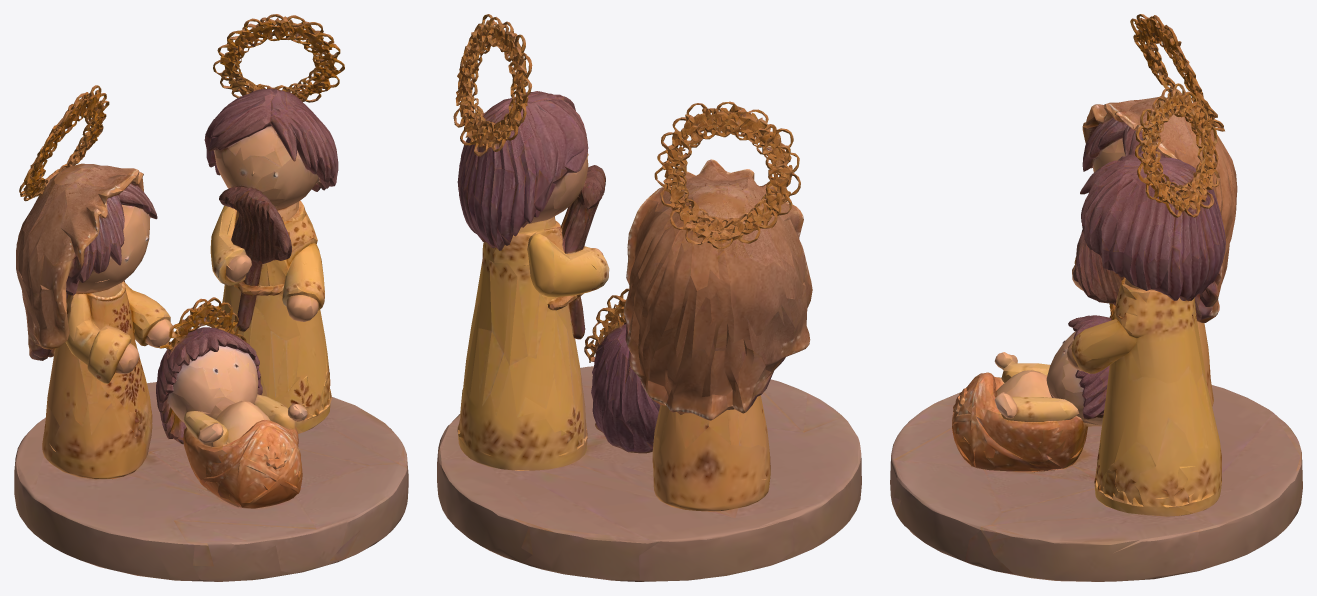
Rendered from modelo-3d.glb.
3 renders of one model, left to right at view 1: azimuth 30°, elevation 25°; view 2: azimuth 150°, elevation 25°; view 3: azimuth 270°, elevation 25°, orthographic. The views are drawn at different scales.
Parts seen in each view (by area): view 1: Mesh_0; view 2: Mesh_0; view 3: Mesh_0.
Boxes of the visible parts, bbox=[...] form: Mesh_0: bbox=[14, 14, 408, 581]; Mesh_0: bbox=[437, 14, 861, 581]; Mesh_0: bbox=[890, 14, 1302, 581].
Bounding box in the file's own units: 1.55 × 1.9 × 1.55.
1 material, 1 textured.
